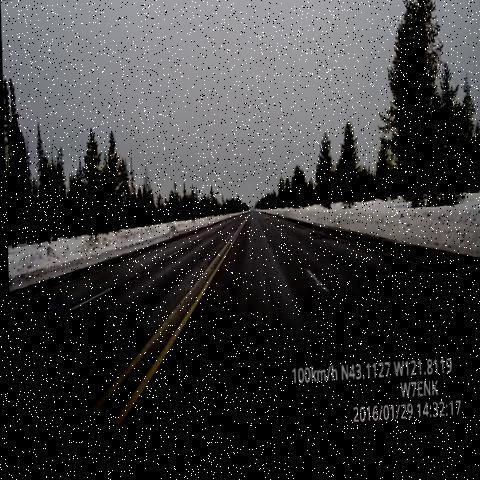pothole: (307, 226, 326, 258)
